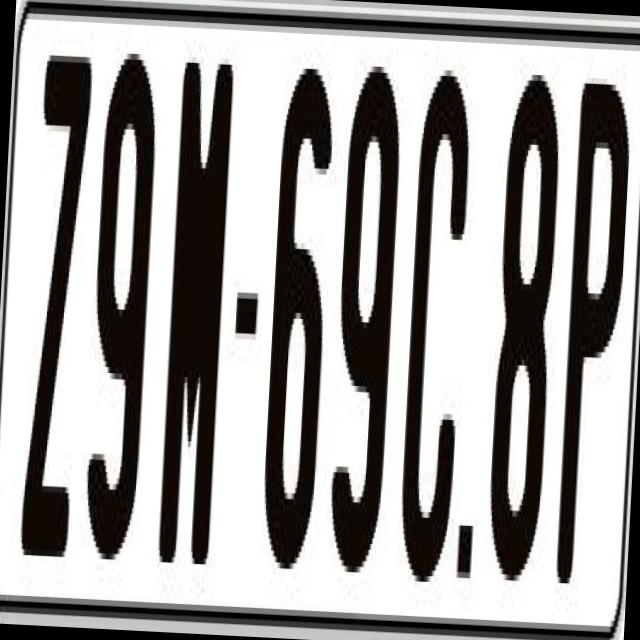6: (260, 51, 344, 558)
8: (484, 73, 565, 588)
9: (322, 66, 408, 574), (82, 46, 165, 566)
C: (396, 69, 476, 577)
M: (159, 45, 240, 548)
P: (554, 71, 636, 604)
Z: (17, 49, 95, 563)
